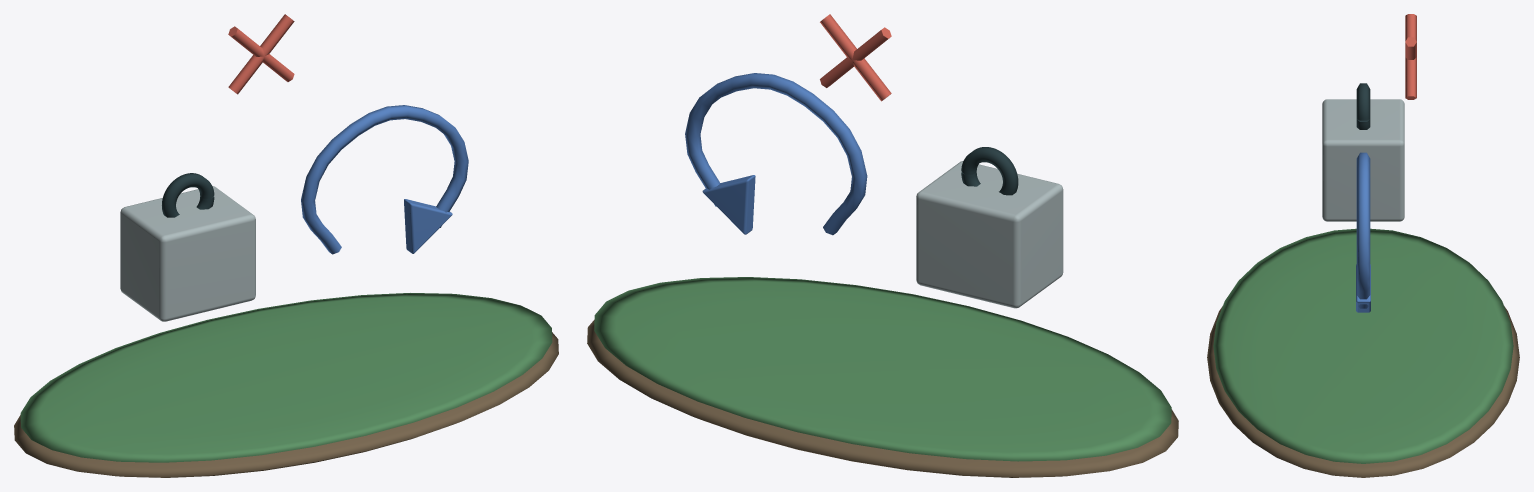
File: complete-third-stone-resists-change.glb
3 renders of one model, left to right at view 1: azimuth 30°, elevation 25°; view 2: azimuth 150°, elevation 25°; view 3: azimuth 270°, elevation 25°, orthographic. The views are drawn at different scales.
Parts seen in each view (by area): view 1: complete-third-stone-resists-change_surface_01, complete-third-stone-resists-change_surface_02, complete-third-stone-resists-change_surface_00, complete-third-stone-resists-change_surface_04, complete-third-stone-resists-change_surface_05, complete-third-stone-resists-change_surface_03; view 2: complete-third-stone-resists-change_surface_01, complete-third-stone-resists-change_surface_02, complete-third-stone-resists-change_surface_00, complete-third-stone-resists-change_surface_04, complete-third-stone-resists-change_surface_05, complete-third-stone-resists-change_surface_03; view 3: complete-third-stone-resists-change_surface_01, complete-third-stone-resists-change_surface_02, complete-third-stone-resists-change_surface_00, complete-third-stone-resists-change_surface_04, complete-third-stone-resists-change_surface_05, complete-third-stone-resists-change_surface_03.
Part boxes in pixels (x1=…): complete-third-stone-resists-change_surface_01: x1=20, y1=293, x2=552, y2=462; complete-third-stone-resists-change_surface_02: x1=120, y1=186, x2=255, y2=321; complete-third-stone-resists-change_surface_00: x1=14, y1=332, x2=558, y2=477; complete-third-stone-resists-change_surface_04: x1=301, y1=105, x2=468, y2=254; complete-third-stone-resists-change_surface_05: x1=228, y1=14, x2=294, y2=94; complete-third-stone-resists-change_surface_03: x1=162, y1=173, x2=214, y2=217; complete-third-stone-resists-change_surface_01: x1=594, y1=277, x2=1171, y2=461; complete-third-stone-resists-change_surface_02: x1=916, y1=161, x2=1063, y2=308; complete-third-stone-resists-change_surface_00: x1=587, y1=319, x2=1178, y2=477; complete-third-stone-resists-change_surface_04: x1=685, y1=73, x2=867, y2=235; complete-third-stone-resists-change_surface_05: x1=820, y1=14, x2=891, y2=101; complete-third-stone-resists-change_surface_03: x1=961, y1=147, x2=1018, y2=195; complete-third-stone-resists-change_surface_01: x1=1213, y1=228, x2=1513, y2=463; complete-third-stone-resists-change_surface_02: x1=1322, y1=99, x2=1404, y2=221; complete-third-stone-resists-change_surface_00: x1=1207, y1=306, x2=1519, y2=477; complete-third-stone-resists-change_surface_04: x1=1356, y1=152, x2=1370, y2=312; complete-third-stone-resists-change_surface_05: x1=1405, y1=14, x2=1416, y2=99; complete-third-stone-resists-change_surface_03: x1=1356, y1=83, x2=1370, y2=129.
Bounding box in the file's own units: 4.56 × 3.06 × 2.5.
